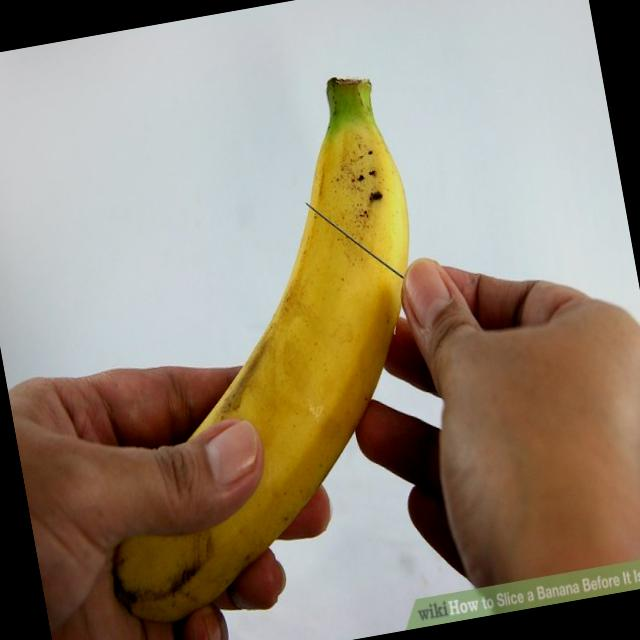banana: (32, 61, 506, 640)
